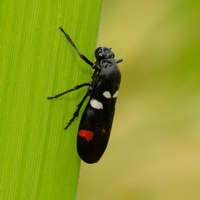insect: (48, 27, 121, 162)
